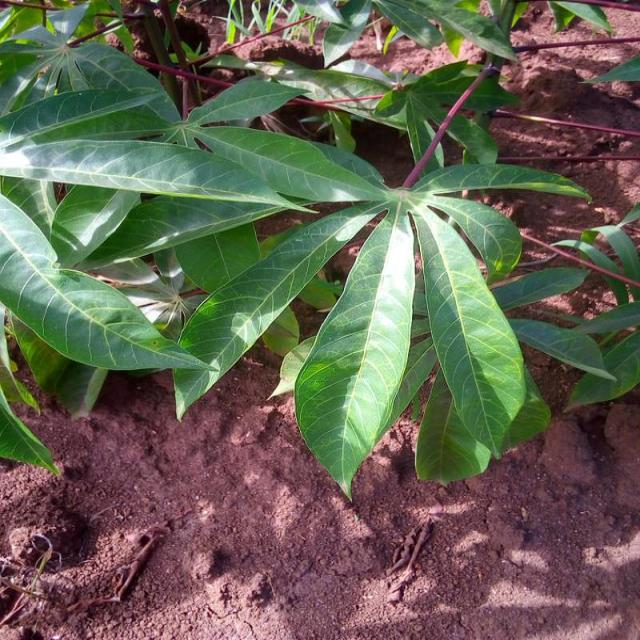cassava leaf: (2, 1, 634, 506), (292, 203, 416, 502), (410, 197, 527, 462)
